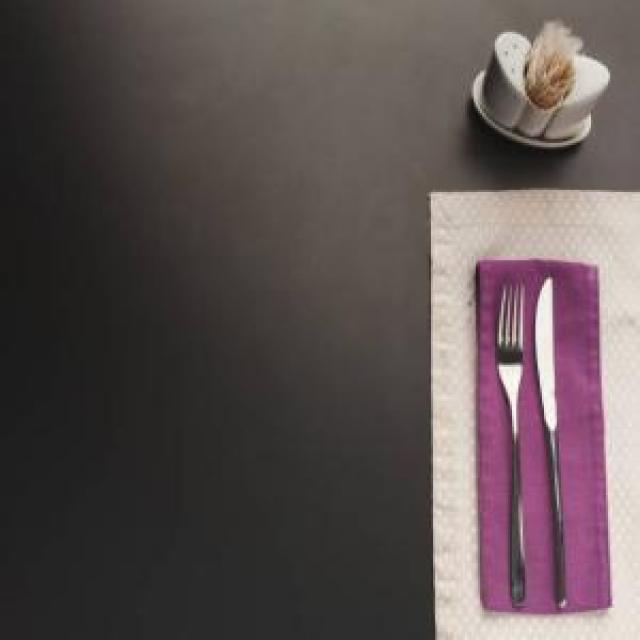knife: (538, 273, 570, 604)
